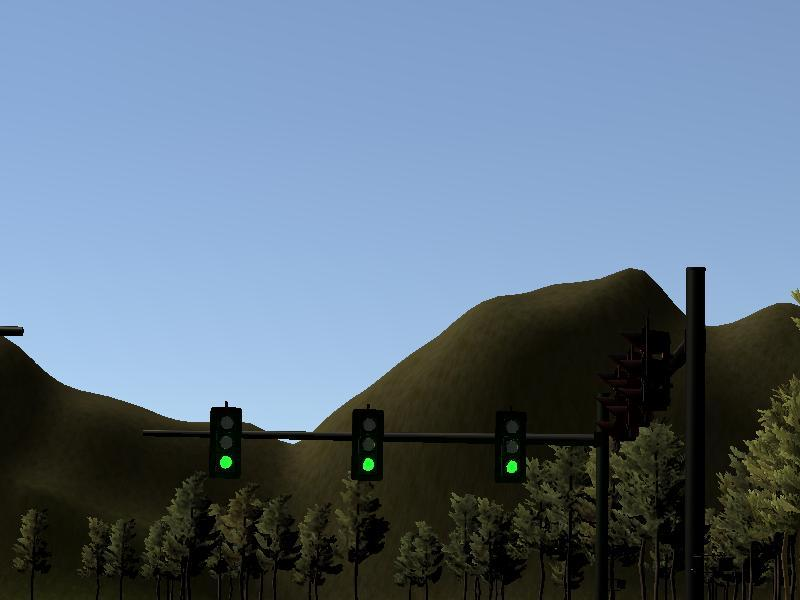Green: (496, 410, 526, 482), (352, 410, 382, 482), (210, 407, 240, 479)
